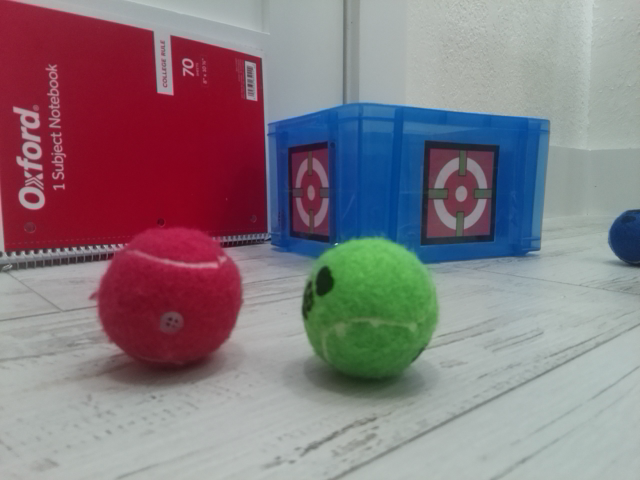blue-ball: (608, 208, 640, 267)
drop-bin: (420, 139, 500, 246), (287, 140, 337, 243)
green-ball: (300, 235, 439, 382)
red-ball: (96, 225, 244, 372)
